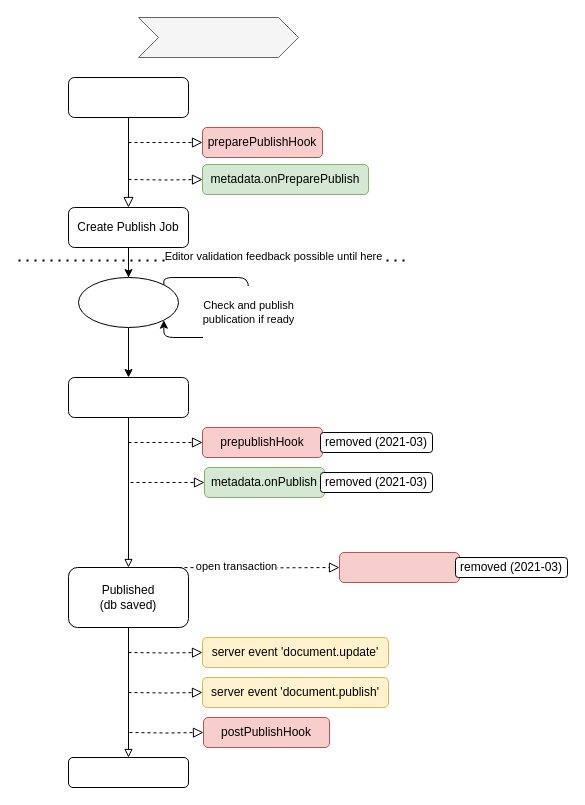
Image size: 585x805. Some labels were removed from this diagram. Here are the shapes that lost their labels. From the top down, the centre of each, then its label:
At (218,37): "Scheduled Publish".
At (128,97): "Prepare Publish".
At (128,302): "Worker".
At (128,397): "Start Publish".
At (399,567): "publishHook".
At (128,772): "End".
